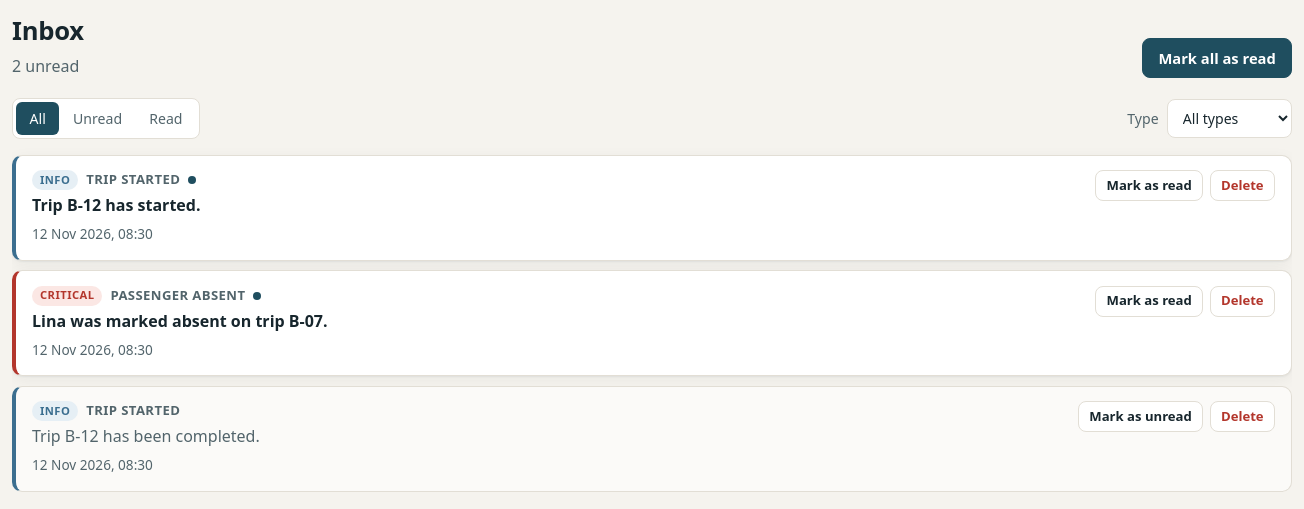
Test: NotificationsPage › marks everything as read and reloads
Expected: the text "Trip B-12 has started." is shown, [32,193,200,217]
What coordinates should you click on to do the following:
click the button "Mark all as read"
I would click on:
 (1217, 58)
Its box is [1142,38,1292,78].
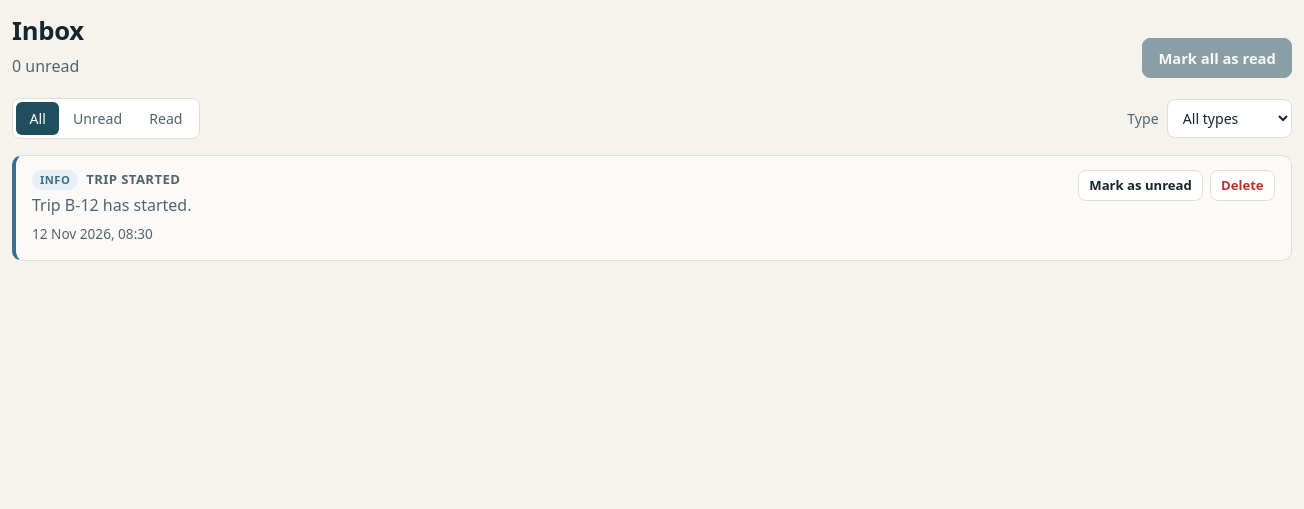
Expected: the text "0 unread" is shown, [12,54,84,78]
Expected: the button "Mark all as read" is disabled, [1142,38,1292,78]
